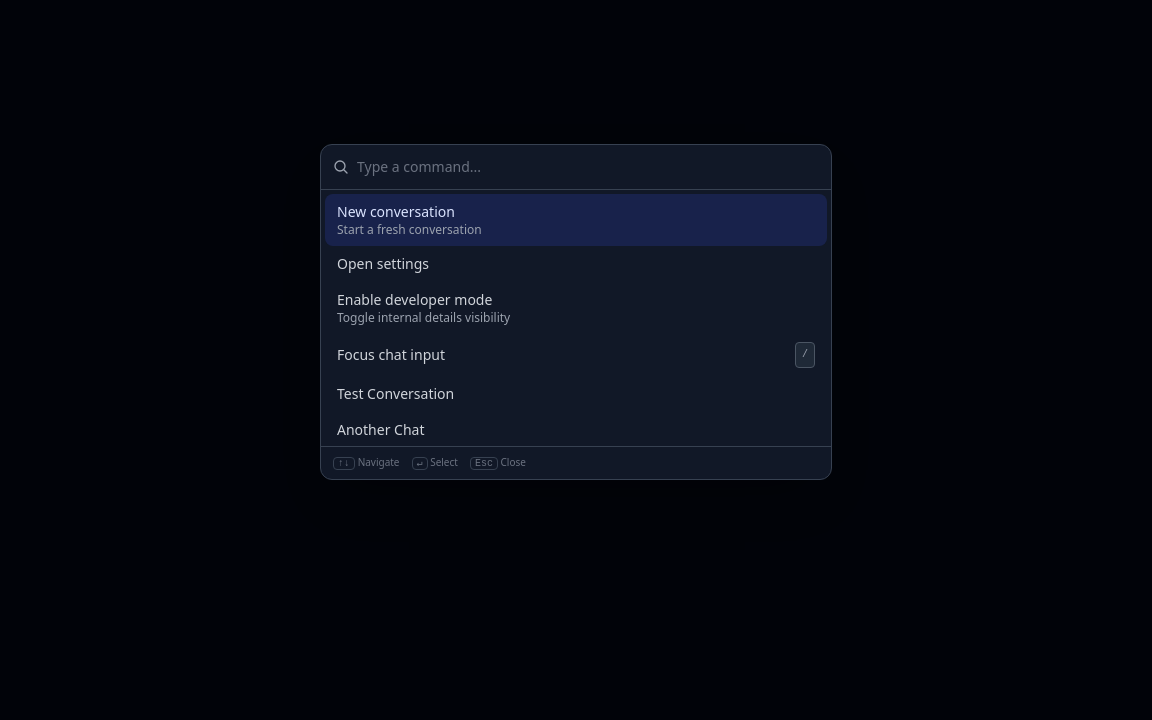
CommandPalette › search filtering › should show "No commands found" for empty results
Type "xyznonexistent" into the dropdown with placeholder "Type a command..." at (588, 167), box [357, 157, 819, 177]
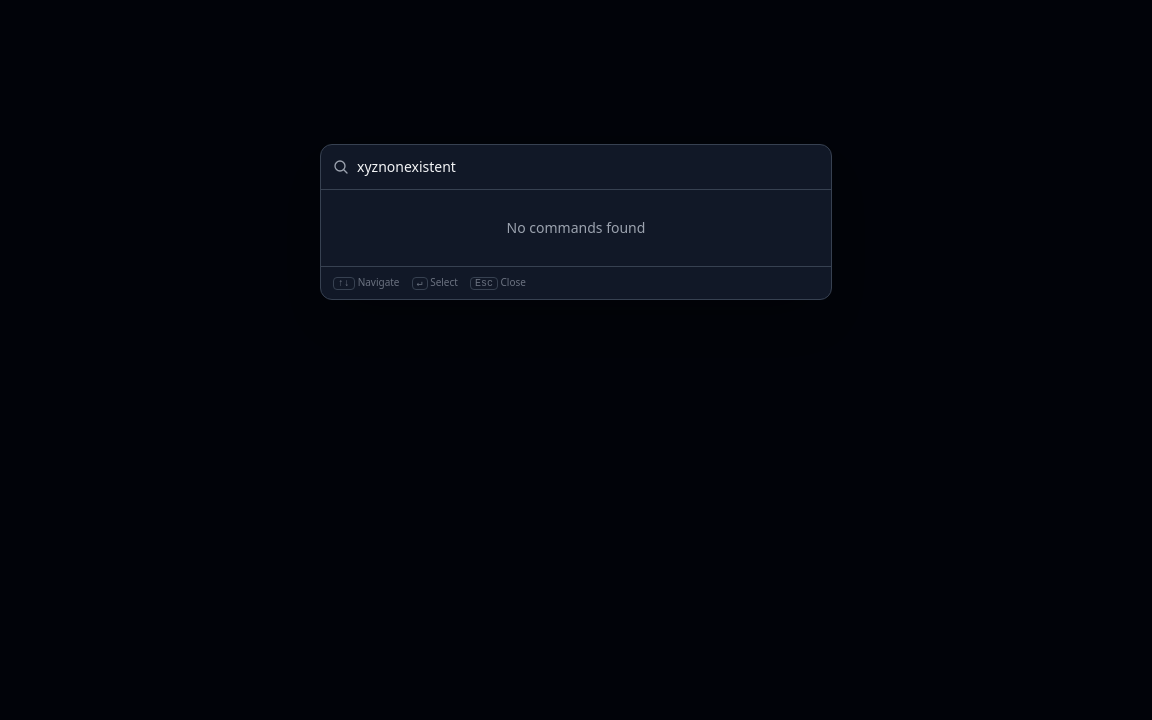
Check: the text "No commands found" is shown, box [507, 218, 645, 237]
